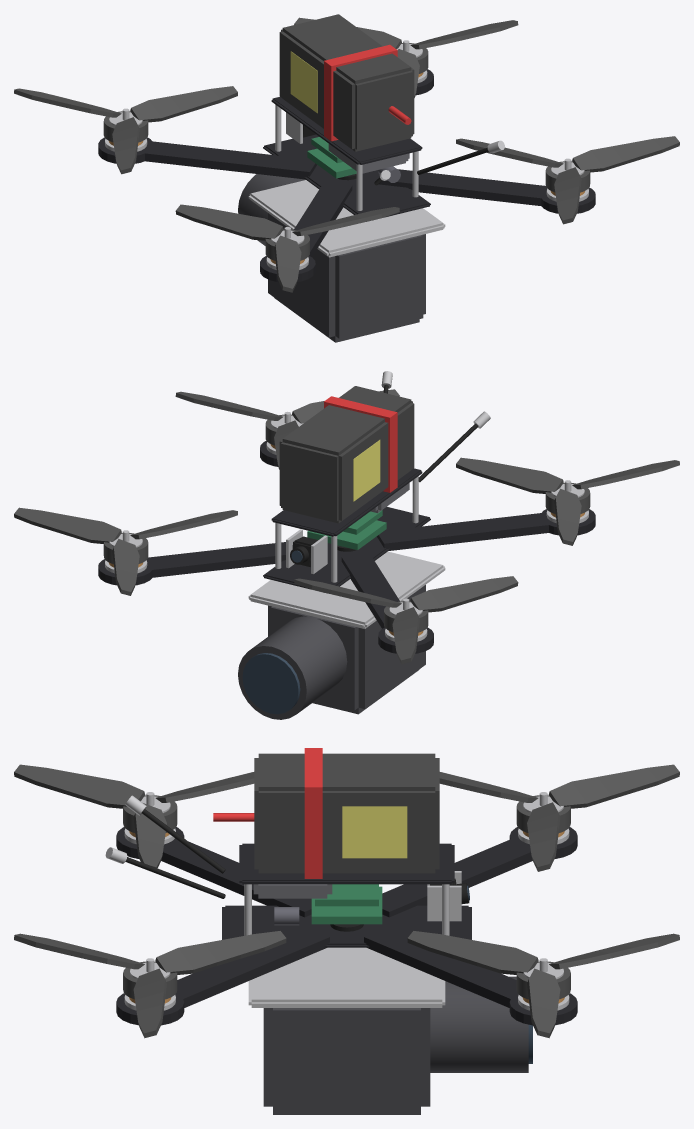
File: cinelifter8.glb
The picture shows the model from 3 angles, top to bottom: view 1: azimuth 30°, elevation 25°; view 2: azimuth 150°, elevation 25°; view 3: azimuth 270°, elevation 25°; orthographic projection. The views are drawn at different scales.
Visible parts, largest first — view 1: body, prop_FL, prop_RL, prop_RR, prop_FR; view 2: body, prop_RL, prop_FL, prop_FR, prop_RR, cam_mount, fpv_cam; view 3: body, prop_FR, prop_RR, prop_FL, prop_RL, cam_mount.
Part boxes in pixels (bbox=[...]): body: bbox=[98, 14, 595, 342]; prop_FL: bbox=[14, 86, 356, 180]; prop_RL: bbox=[175, 179, 399, 292]; prop_RR: bbox=[456, 136, 679, 224]; prop_FR: bbox=[294, 17, 518, 179]; body: bbox=[98, 371, 595, 719]; prop_RL: bbox=[337, 457, 679, 551]; prop_FL: bbox=[294, 545, 518, 664]; prop_FR: bbox=[14, 507, 355, 595]; prop_RR: bbox=[175, 389, 399, 469]; cam_mount: bbox=[286, 529, 327, 574]; fpv_cam: bbox=[290, 536, 318, 567]; body: bbox=[105, 748, 577, 1114]; prop_FR: bbox=[336, 925, 679, 1038]; prop_RR: bbox=[14, 931, 286, 1038]; prop_FL: bbox=[330, 764, 679, 931]; prop_RL: bbox=[14, 764, 254, 868]; cam_mount: bbox=[427, 871, 461, 921].
Bounding box in the file's own units: 0.416 × 0.2349 × 0.4401.
